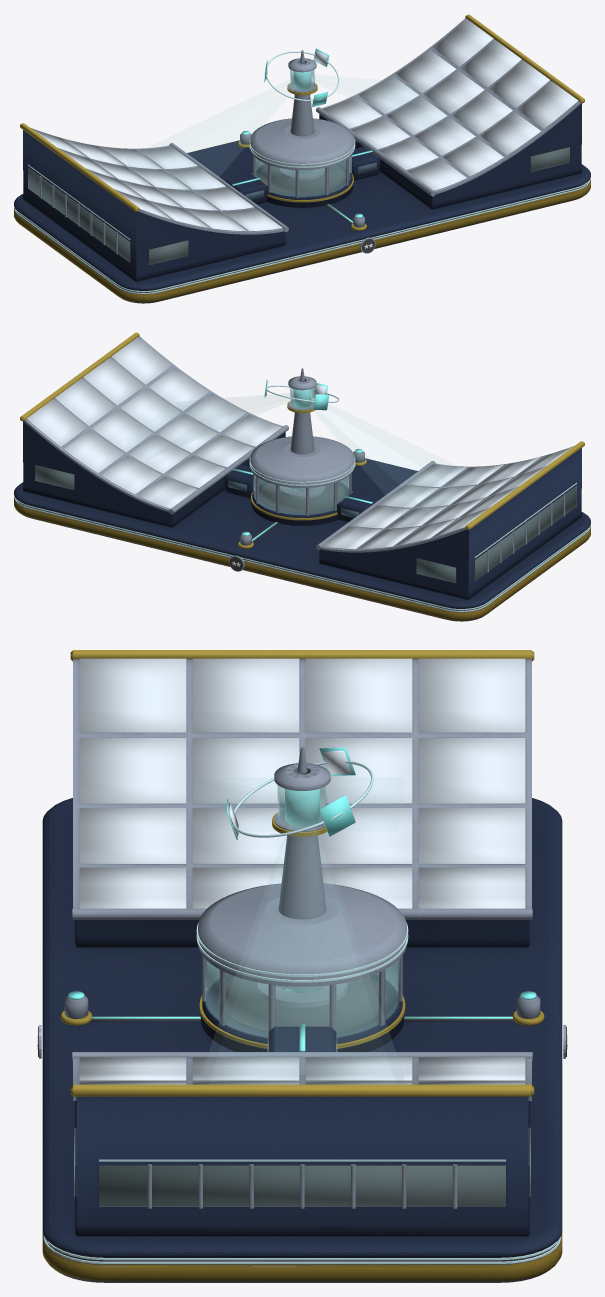
Rendered from SM_Evo_OrbitalMirror.fbx.
The picture shows the model from 3 angles, top to bottom: view 1: azimuth 30°, elevation 25°; view 2: azimuth 150°, elevation 25°; view 3: azimuth 270°, elevation 25°; orthographic projection. The views are drawn at different scales.
Visible parts, largest first — view 1: SMN_Evo_OrbitalMirror, Emblem_Fx_OrbitalMirror, SpinOrbit_OrbitalMirror; view 2: SMN_Evo_OrbitalMirror, Emblem_Fx_OrbitalMirror, SpinOrbit_OrbitalMirror; view 3: SMN_Evo_OrbitalMirror, Emblem_Fx_OrbitalMirror, SpinOrbit_OrbitalMirror.
Boxes of the visible parts, left/top/right/bottom form: SMN_Evo_OrbitalMirror: left=14, top=14, right=590, bottom=303; Emblem_Fx_OrbitalMirror: left=14, top=19, right=590, bottom=293; SpinOrbit_OrbitalMirror: left=264, top=48, right=339, bottom=106; SMN_Evo_OrbitalMirror: left=14, top=332, right=590, bottom=621; Emblem_Fx_OrbitalMirror: left=14, top=337, right=590, bottom=611; SpinOrbit_OrbitalMirror: left=264, top=380, right=339, bottom=410; SMN_Evo_OrbitalMirror: left=38, top=650, right=566, bottom=1282; Emblem_Fx_OrbitalMirror: left=37, top=658, right=567, bottom=1263; SpinOrbit_OrbitalMirror: left=227, top=747, right=373, bottom=839.
Bounding box in the file's own units: 3.84 × 1.22 × 1.88.
